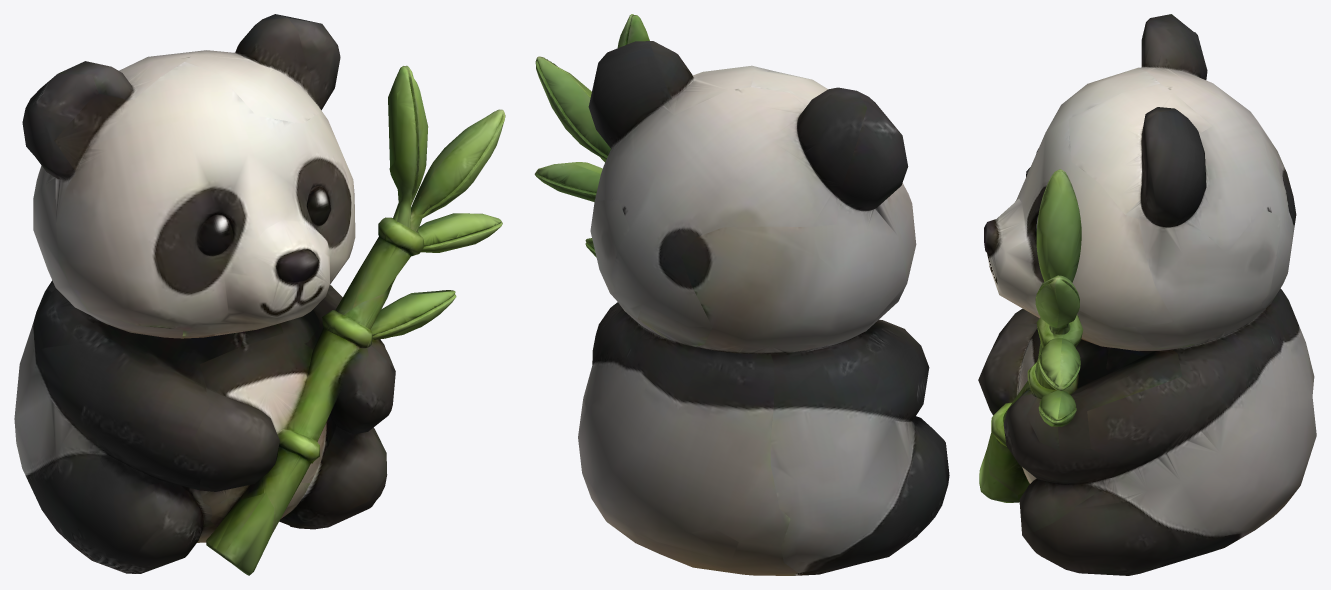
File: panda_pbr.glb
3 views of the same model, side by side, from view 1: azimuth 30°, elevation 25°; view 2: azimuth 150°, elevation 25°; view 3: azimuth 270°, elevation 25° (orthographic). The views are drawn at different scales.
Visible parts, largest first — view 1: model.011; view 2: model.011; view 3: model.011.
Boxes of the visible parts, bbox=[...] form: model.011: bbox=[14, 14, 505, 575]; model.011: bbox=[534, 14, 949, 575]; model.011: bbox=[978, 14, 1316, 575].
Bounding box in the file's own units: 1.34 × 1.46 × 0.9728.
Materials: 1 (1 with a texture image).
